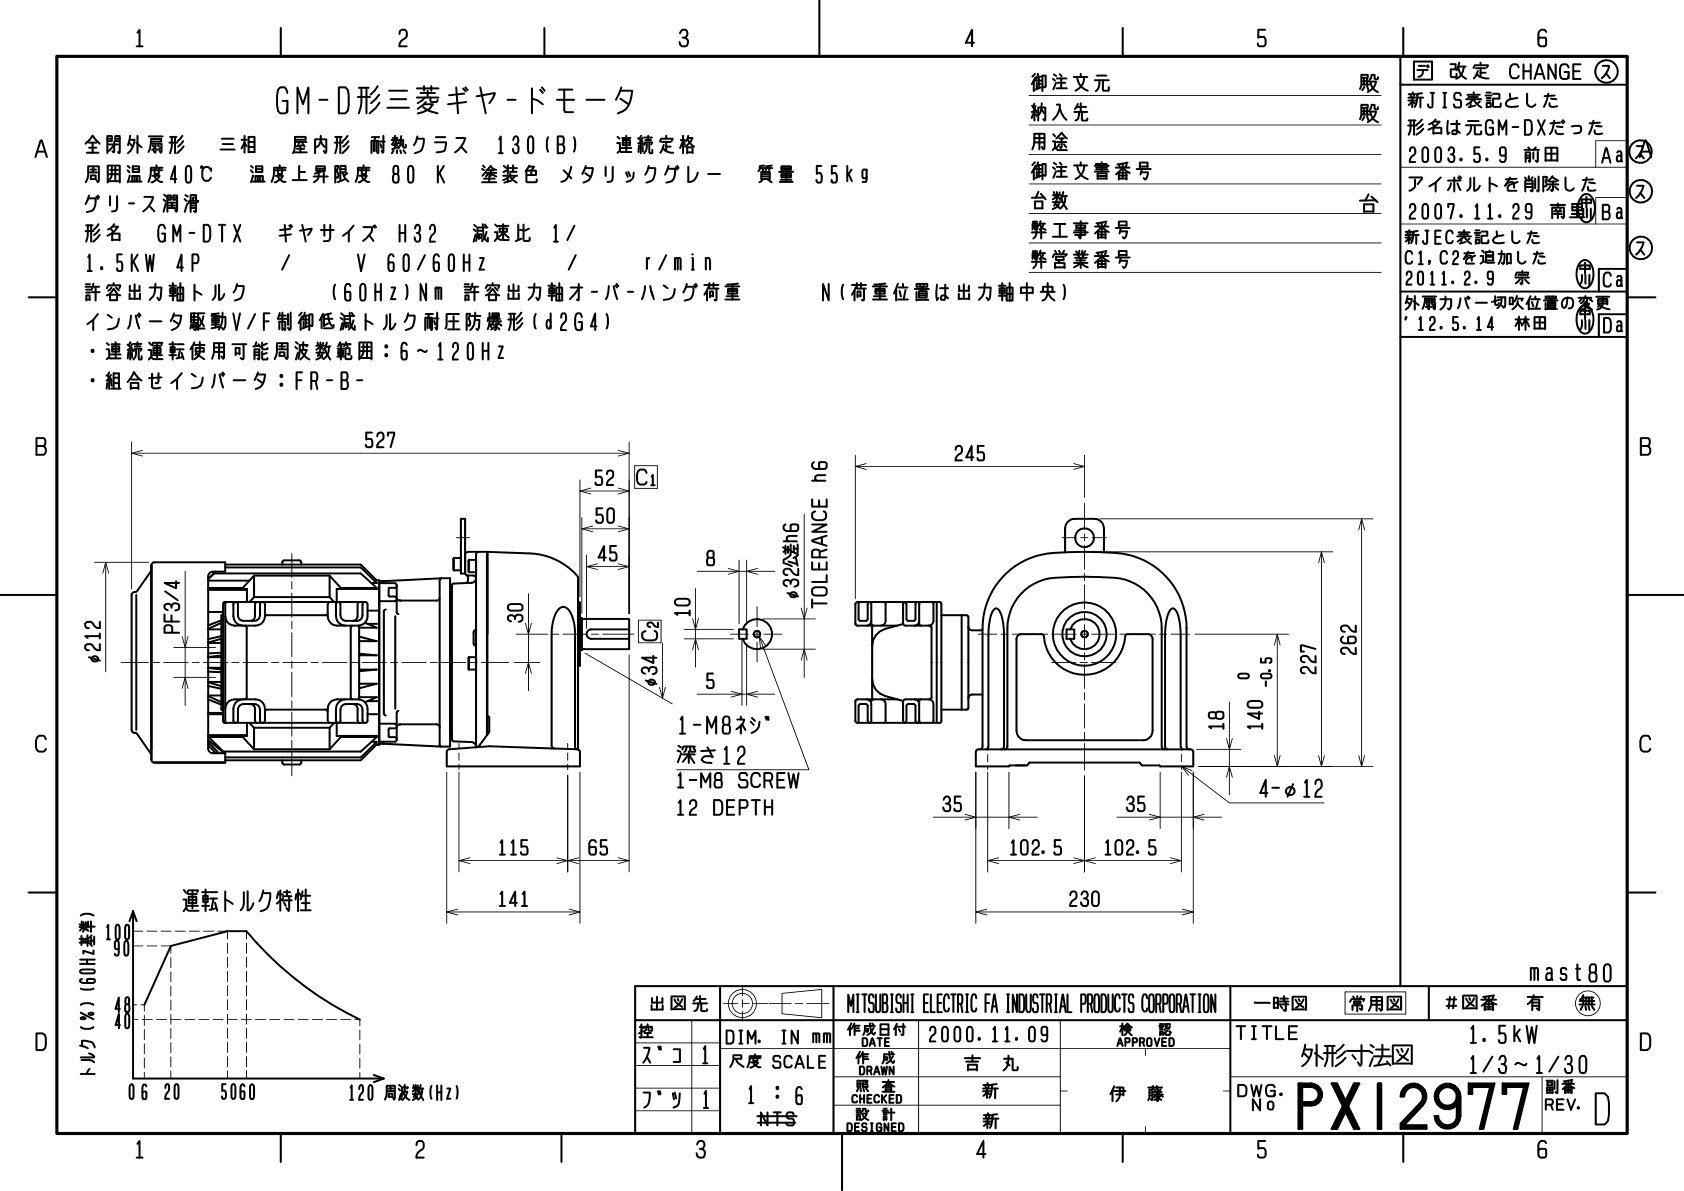GM_D_制御屋内_三相_脚: (1, 1, 1678, 1179)
